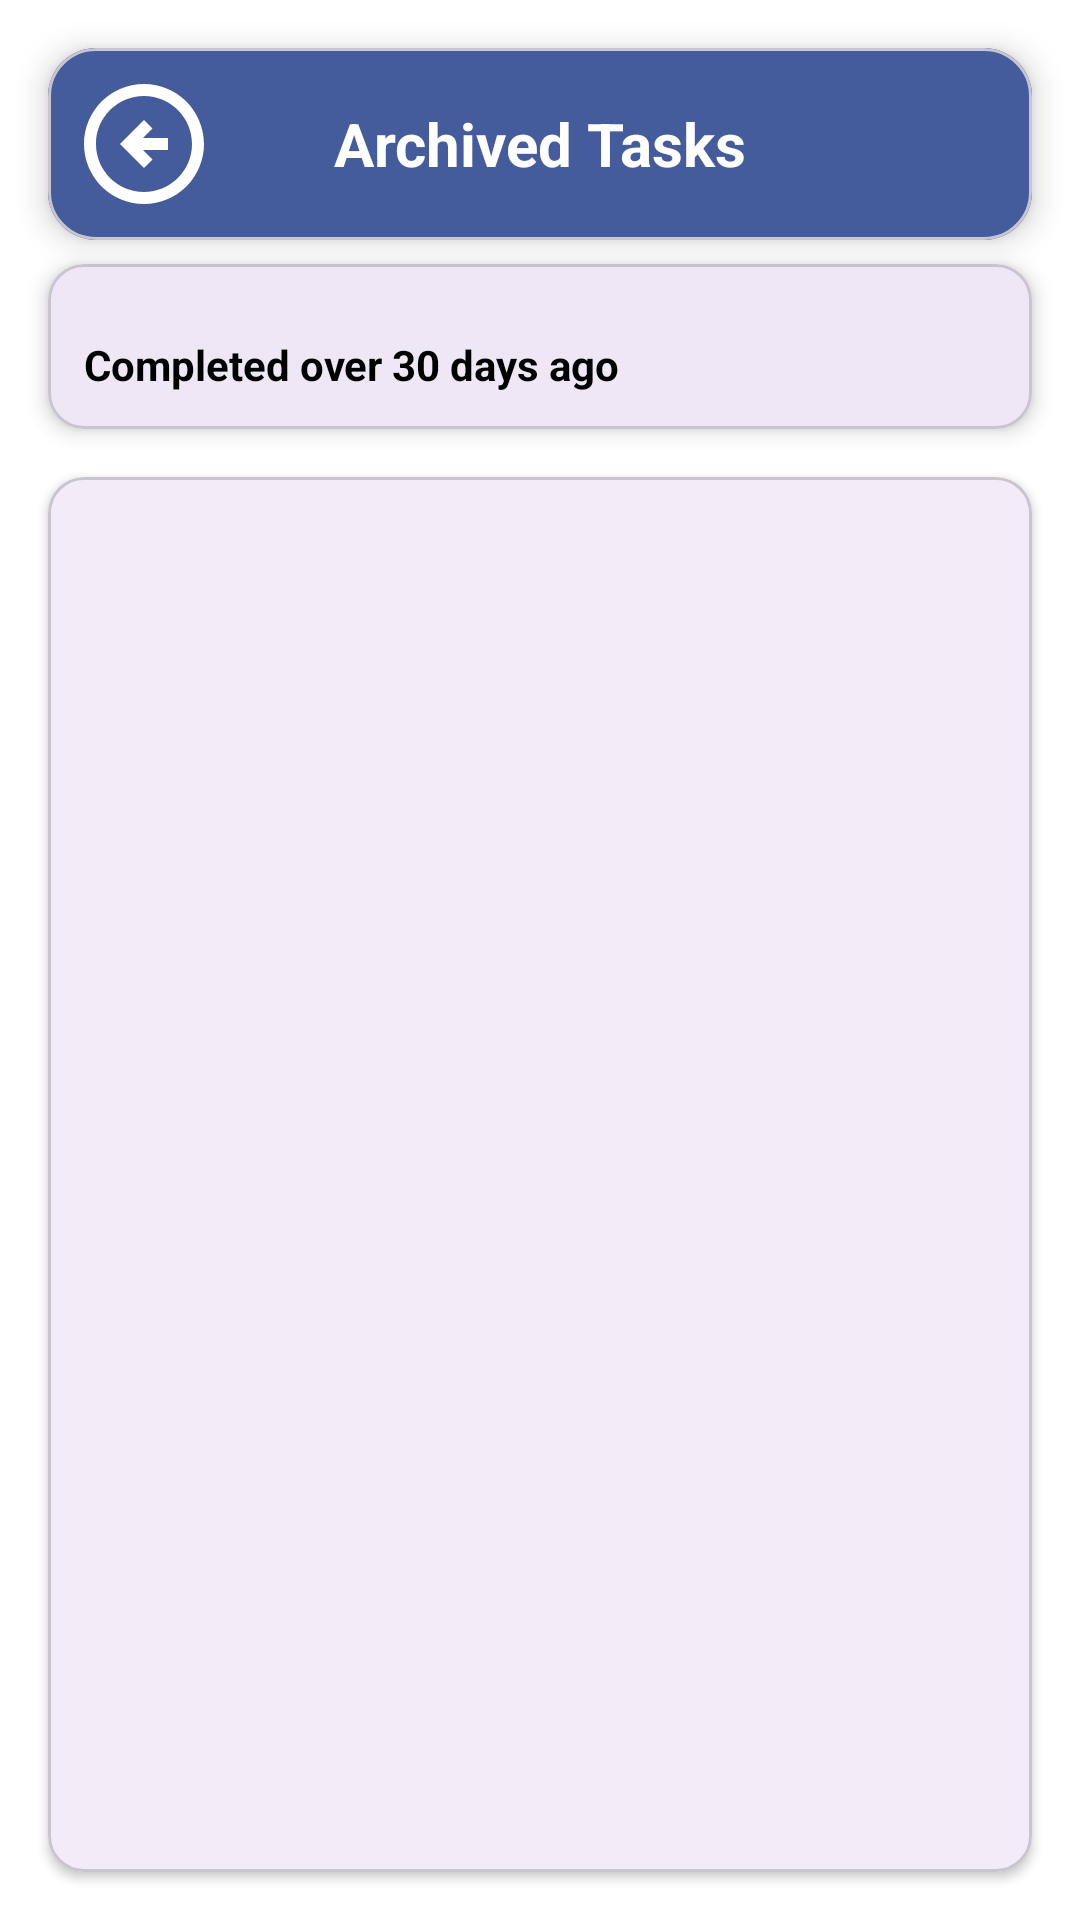

Screen size 1080w x 1920h. Icon name, then its box in pixels as (x1, y1, x2, y2):
Go Back: (84, 84, 204, 204)
